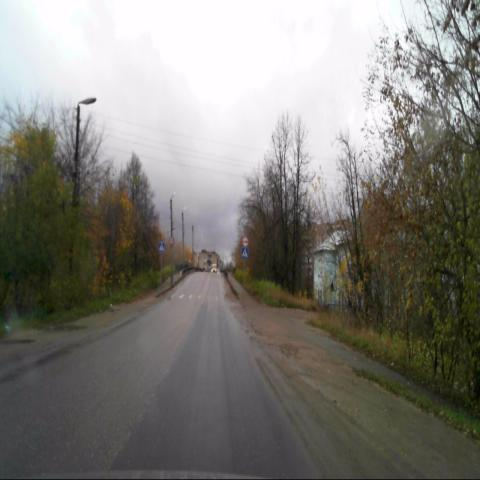5_19_1: (241, 245, 249, 261), (158, 240, 165, 253)
